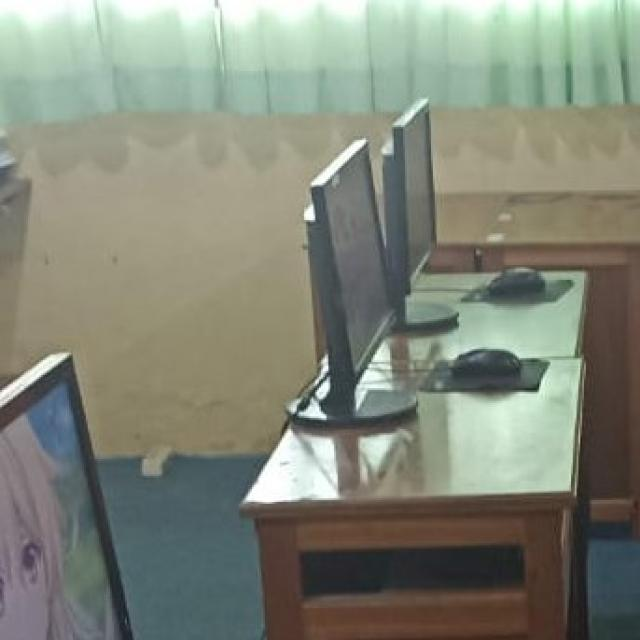offscreen: (305, 139, 395, 392), (382, 98, 436, 309)
onscreen: (0, 352, 121, 639)
